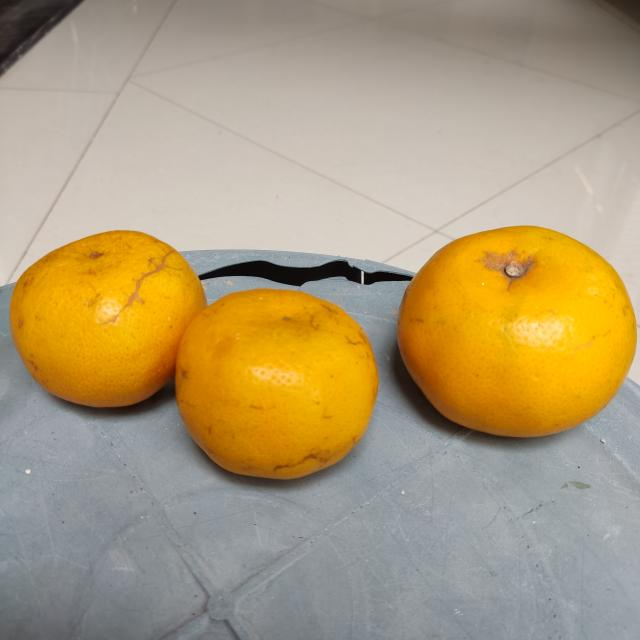orange: (400, 220, 640, 442), (172, 289, 378, 483), (10, 230, 207, 414)
